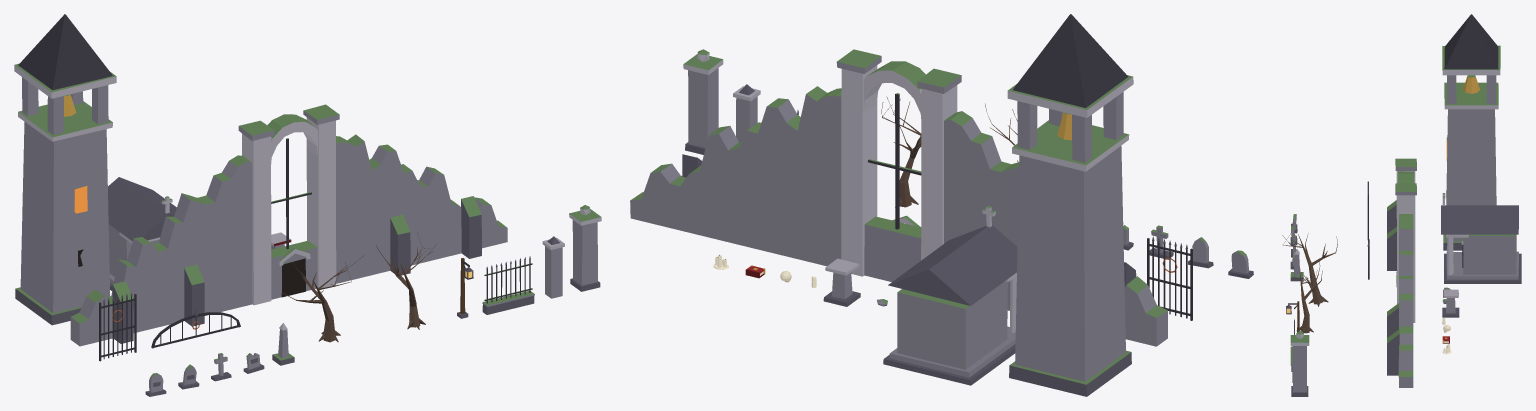
Rendered from lobby_kit.glb.
3 views of the same model, side by side, from view 1: azimuth 30°, elevation 25°; view 2: azimuth 150°, elevation 25°; view 3: azimuth 270°, elevation 25° (orthographic). The views are drawn at different scales.
Visible parts, largest first — view 1: ChapelFront, BellTower, Crypt, GatePillar, FenceSection, GateLeaf, FencePillar, Tree_A, GateArch, Tree_B; view 2: ChapelFront, BellTower, Crypt, GatePillar, GateLeaf, Pedestal, FencePillar, Tree_B; view 3: BellTower, Crypt, ChapelFront, GatePillar, Tree_A, Tree_B, Pedestal, Grave_Obelisk.
Part boxes in pixels (x1,y1,x2,y2): ChapelFront: [70, 104, 507, 346]; BellTower: [14, 14, 116, 325]; Crypt: [108, 177, 176, 290]; GatePillar: [569, 205, 601, 291]; FenceSection: [482, 256, 534, 314]; GateLeaf: [99, 292, 136, 361]; FencePillar: [542, 236, 564, 298]; Tree_A: [282, 255, 364, 342]; GateArch: [151, 307, 240, 348]; Tree_B: [376, 232, 436, 329]; ChapelFront: [630, 49, 1167, 346]; BellTower: [1007, 14, 1133, 396]; Crypt: [883, 205, 1017, 385]; GatePillar: [683, 49, 723, 154]; GateLeaf: [1147, 236, 1192, 320]; Pedestal: [823, 258, 860, 306]; FencePillar: [733, 84, 760, 142]; Tree_B: [881, 96, 921, 207]; BellTower: [1442, 14, 1500, 250]; Crypt: [1441, 193, 1521, 283]; ChapelFront: [1387, 158, 1416, 387]; GatePillar: [1290, 331, 1309, 396]; Tree_A: [1282, 233, 1337, 306]; Tree_B: [1293, 258, 1322, 333]; Pedestal: [1442, 289, 1459, 317]; Grave_Obelisk: [1290, 249, 1303, 281].
Bounding box in the file's own units: 57.09 × 35.42 × 33.85.
Materials: 1 (1 with a texture image).
